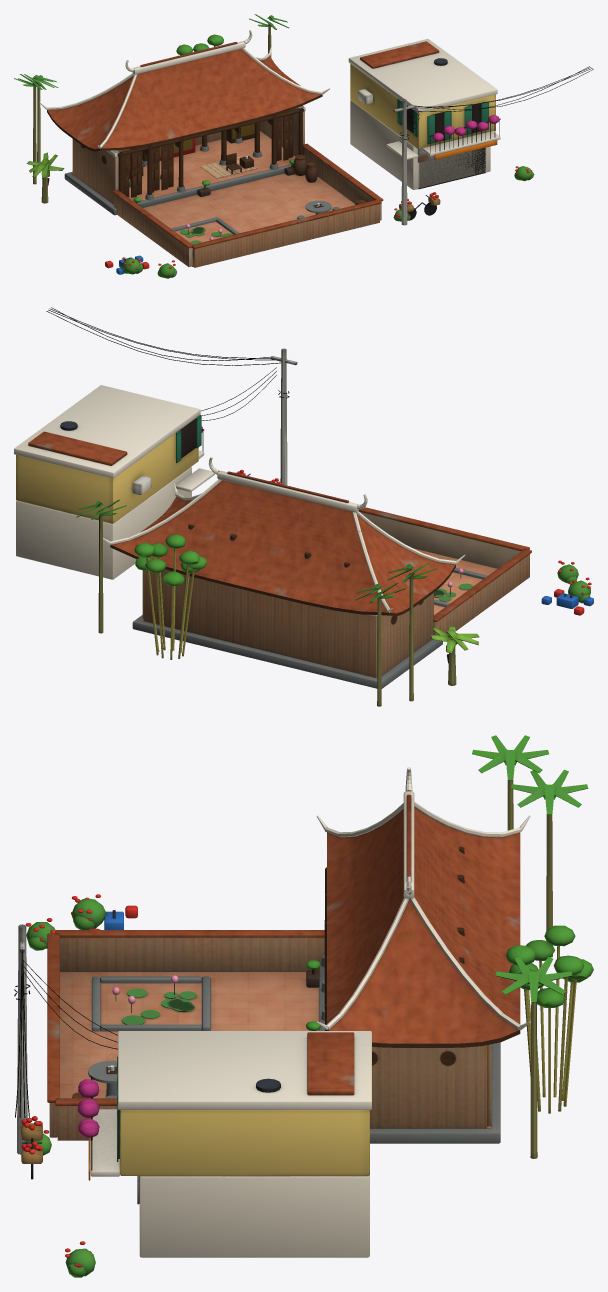
Rendered from valora-house-vn.glb.
3 renders of one model, top to bottom at view 1: azimuth 30°, elevation 25°; view 2: azimuth 150°, elevation 25°; view 3: azimuth 270°, elevation 25°, orthographic. The views are drawn at different scales.
Parts seen in each view (by area): view 1: valora-house-vn; view 2: valora-house-vn; view 3: valora-house-vn.
Part boxes in pixels (bbox=[...]): valora-house-vn: bbox=[14, 14, 593, 278]; valora-house-vn: bbox=[14, 307, 593, 706]; valora-house-vn: bbox=[14, 735, 593, 1277].
Bounding box in the file's own units: 24.56 × 7.05 × 14.85.
34 materials, 34 textured.
